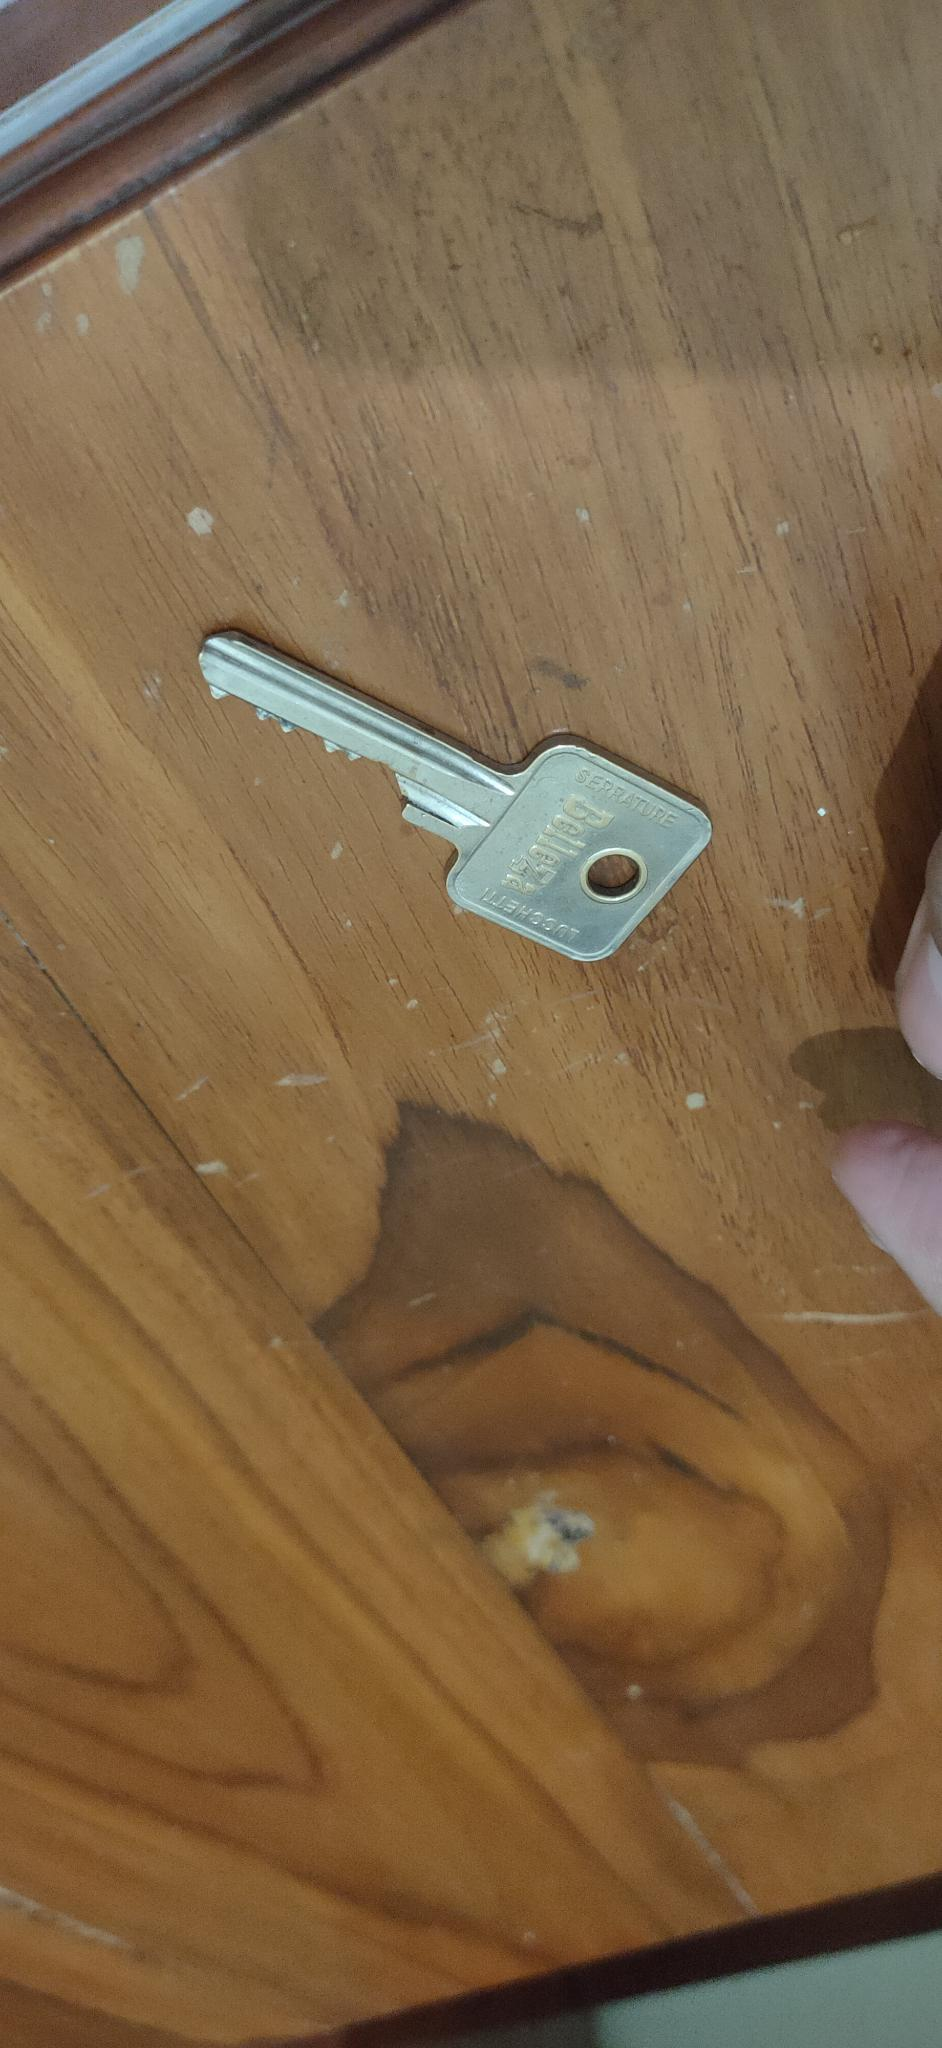keys: (186, 594, 736, 982)
